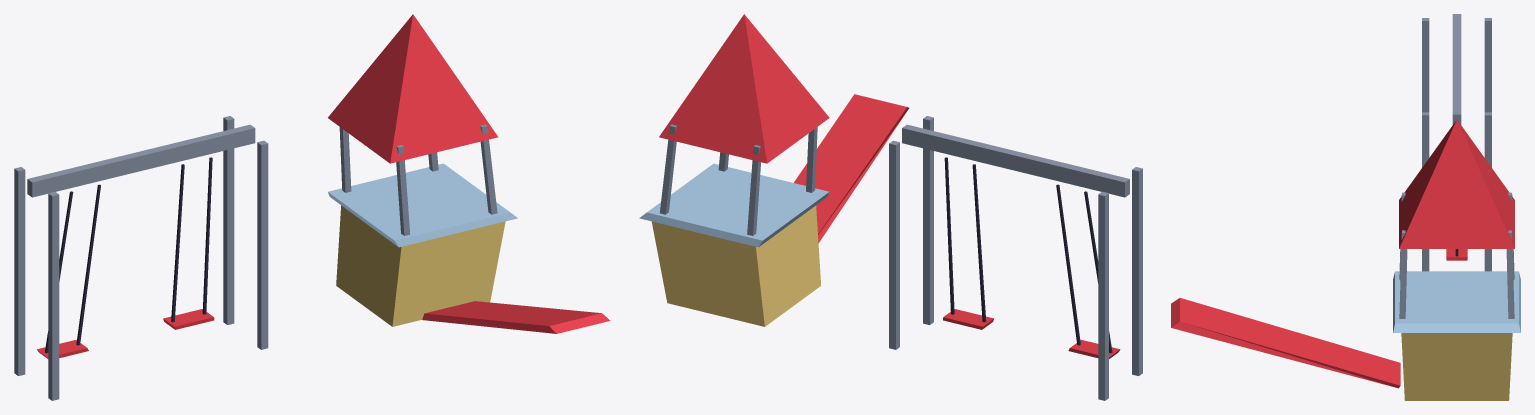
File: playset.glb
The picture shows the model from 3 angles, left to right: view 1: azimuth 30°, elevation 25°; view 2: azimuth 150°, elevation 25°; view 3: azimuth 270°, elevation 25°; orthographic projection. The views are drawn at different scales.
Parts seen in each view (by area): view 1: playset_red, playset_metal, playset_wall_yellow, playset_wall_blue, playset_black; view 2: playset_red, playset_metal, playset_wall_yellow, playset_wall_blue, playset_black; view 3: playset_red, playset_wall_yellow, playset_wall_blue, playset_metal.
Boxes of the visible parts, x1,y1,x2,y2 form: playset_red: (37, 14, 610, 358); playset_metal: (14, 116, 497, 400); playset_wall_yellow: (336, 205, 505, 326); playset_wall_blue: (328, 163, 517, 247); playset_black: (45, 157, 212, 353); playset_red: (659, 14, 1120, 358); playset_metal: (660, 116, 1142, 400); playset_wall_yellow: (651, 205, 820, 326); playset_wall_blue: (639, 163, 829, 247); playset_black: (944, 157, 1112, 352); playset_red: (1171, 120, 1514, 388); playset_wall_yellow: (1401, 333, 1512, 400); playset_wall_blue: (1393, 271, 1520, 332); playset_metal: (1399, 14, 1514, 318).
Size of the model in its own units: 6.78 by 4 by 4.88.
